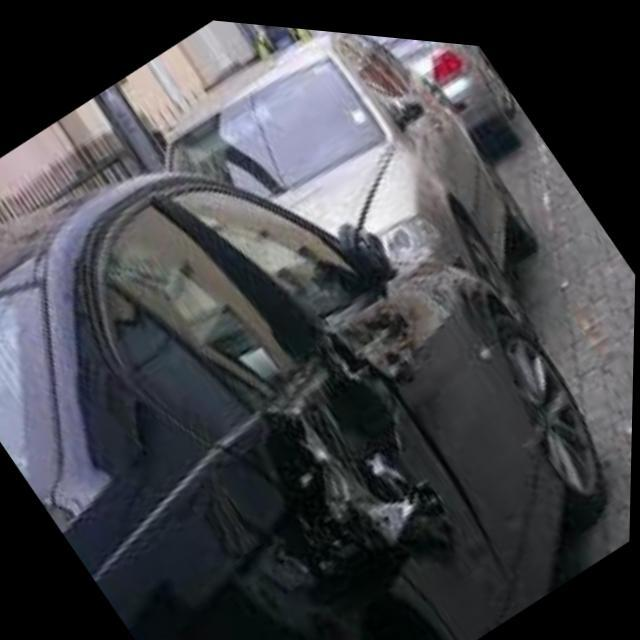dent: (151, 189, 456, 582)
